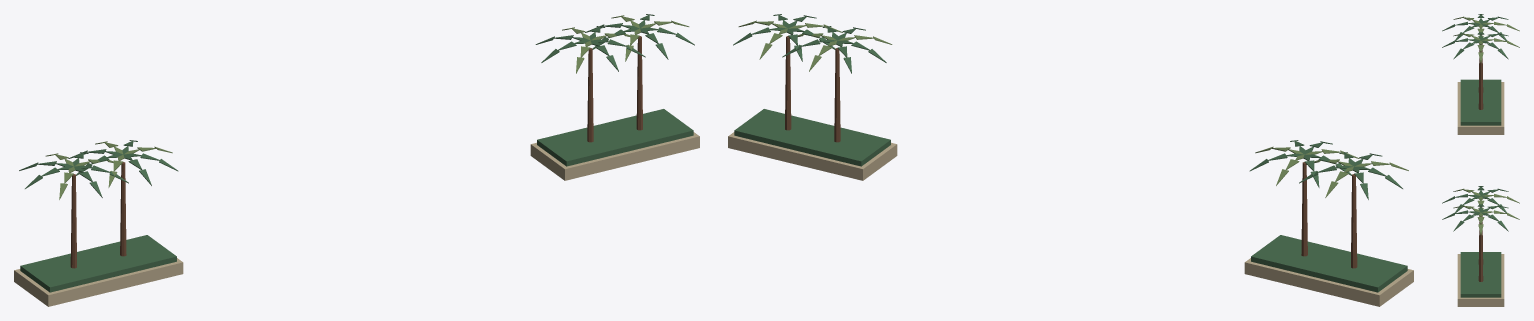
The model's file is KOL_T1_TRUMP__Landscape.fbx.
3 views of the same model, side by side, from view 1: azimuth 30°, elevation 25°; view 2: azimuth 150°, elevation 25°; view 3: azimuth 270°, elevation 25° (orthographic). The views are drawn at different scales.
Visible parts, largest first — view 1: KOL_T1_TRUMP__Landscape__KOL_T1_Leaf, KOL_T1_TRUMP__Landscape__KOL_T1_Stone, KOL_T1_TRUMP__Landscape__KOL_T1_Louvre, KOL_T1_TRUMP__Landscape__KOL_T1_LeafLight; view 2: KOL_T1_TRUMP__Landscape__KOL_T1_Leaf, KOL_T1_TRUMP__Landscape__KOL_T1_Stone, KOL_T1_TRUMP__Landscape__KOL_T1_Louvre, KOL_T1_TRUMP__Landscape__KOL_T1_LeafLight; view 3: KOL_T1_TRUMP__Landscape__KOL_T1_Leaf, KOL_T1_TRUMP__Landscape__KOL_T1_Stone, KOL_T1_TRUMP__Landscape__KOL_T1_LeafLight, KOL_T1_TRUMP__Landscape__KOL_T1_Louvre.
Part boxes in pixels (<box>): KOL_T1_TRUMP__Landscape__KOL_T1_Leaf: <box>19,14,694,292</box>; KOL_T1_TRUMP__Landscape__KOL_T1_Stone: <box>14,132,699,306</box>; KOL_T1_TRUMP__Landscape__KOL_T1_Louvre: <box>70,36,642,268</box>; KOL_T1_TRUMP__Landscape__KOL_T1_LeafLight: <box>45,15,689,199</box>; KOL_T1_TRUMP__Landscape__KOL_T1_Leaf: <box>733,14,1407,292</box>; KOL_T1_TRUMP__Landscape__KOL_T1_Stone: <box>728,132,1413,306</box>; KOL_T1_TRUMP__Landscape__KOL_T1_Louvre: <box>785,36,1357,268</box>; KOL_T1_TRUMP__Landscape__KOL_T1_LeafLight: <box>738,20,1408,197</box>; KOL_T1_TRUMP__Landscape__KOL_T1_Leaf: <box>1442,14,1508,297</box>; KOL_T1_TRUMP__Landscape__KOL_T1_Stone: <box>1457,82,1504,306</box>; KOL_T1_TRUMP__Landscape__KOL_T1_LeafLight: <box>1453,16,1519,235</box>; KOL_T1_TRUMP__Landscape__KOL_T1_Louvre: <box>1478,35,1483,281</box>.
Bounding box in the file's own units: 101 × 17.25 × 15.
